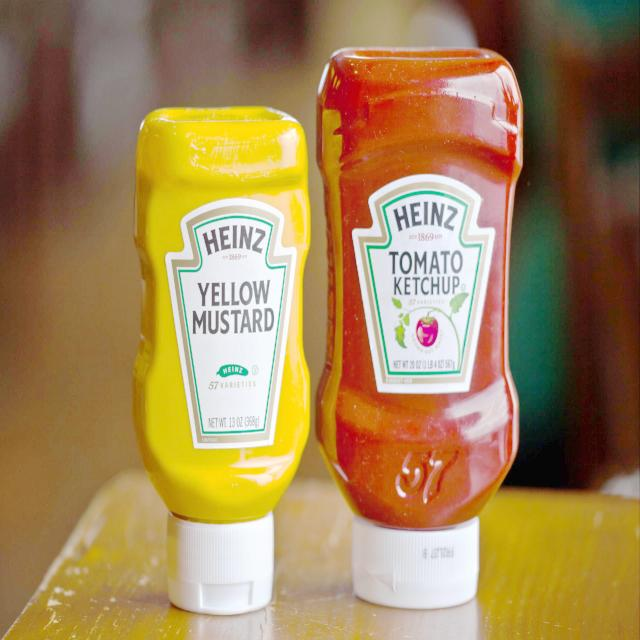ketchup: (314, 32, 527, 612)
